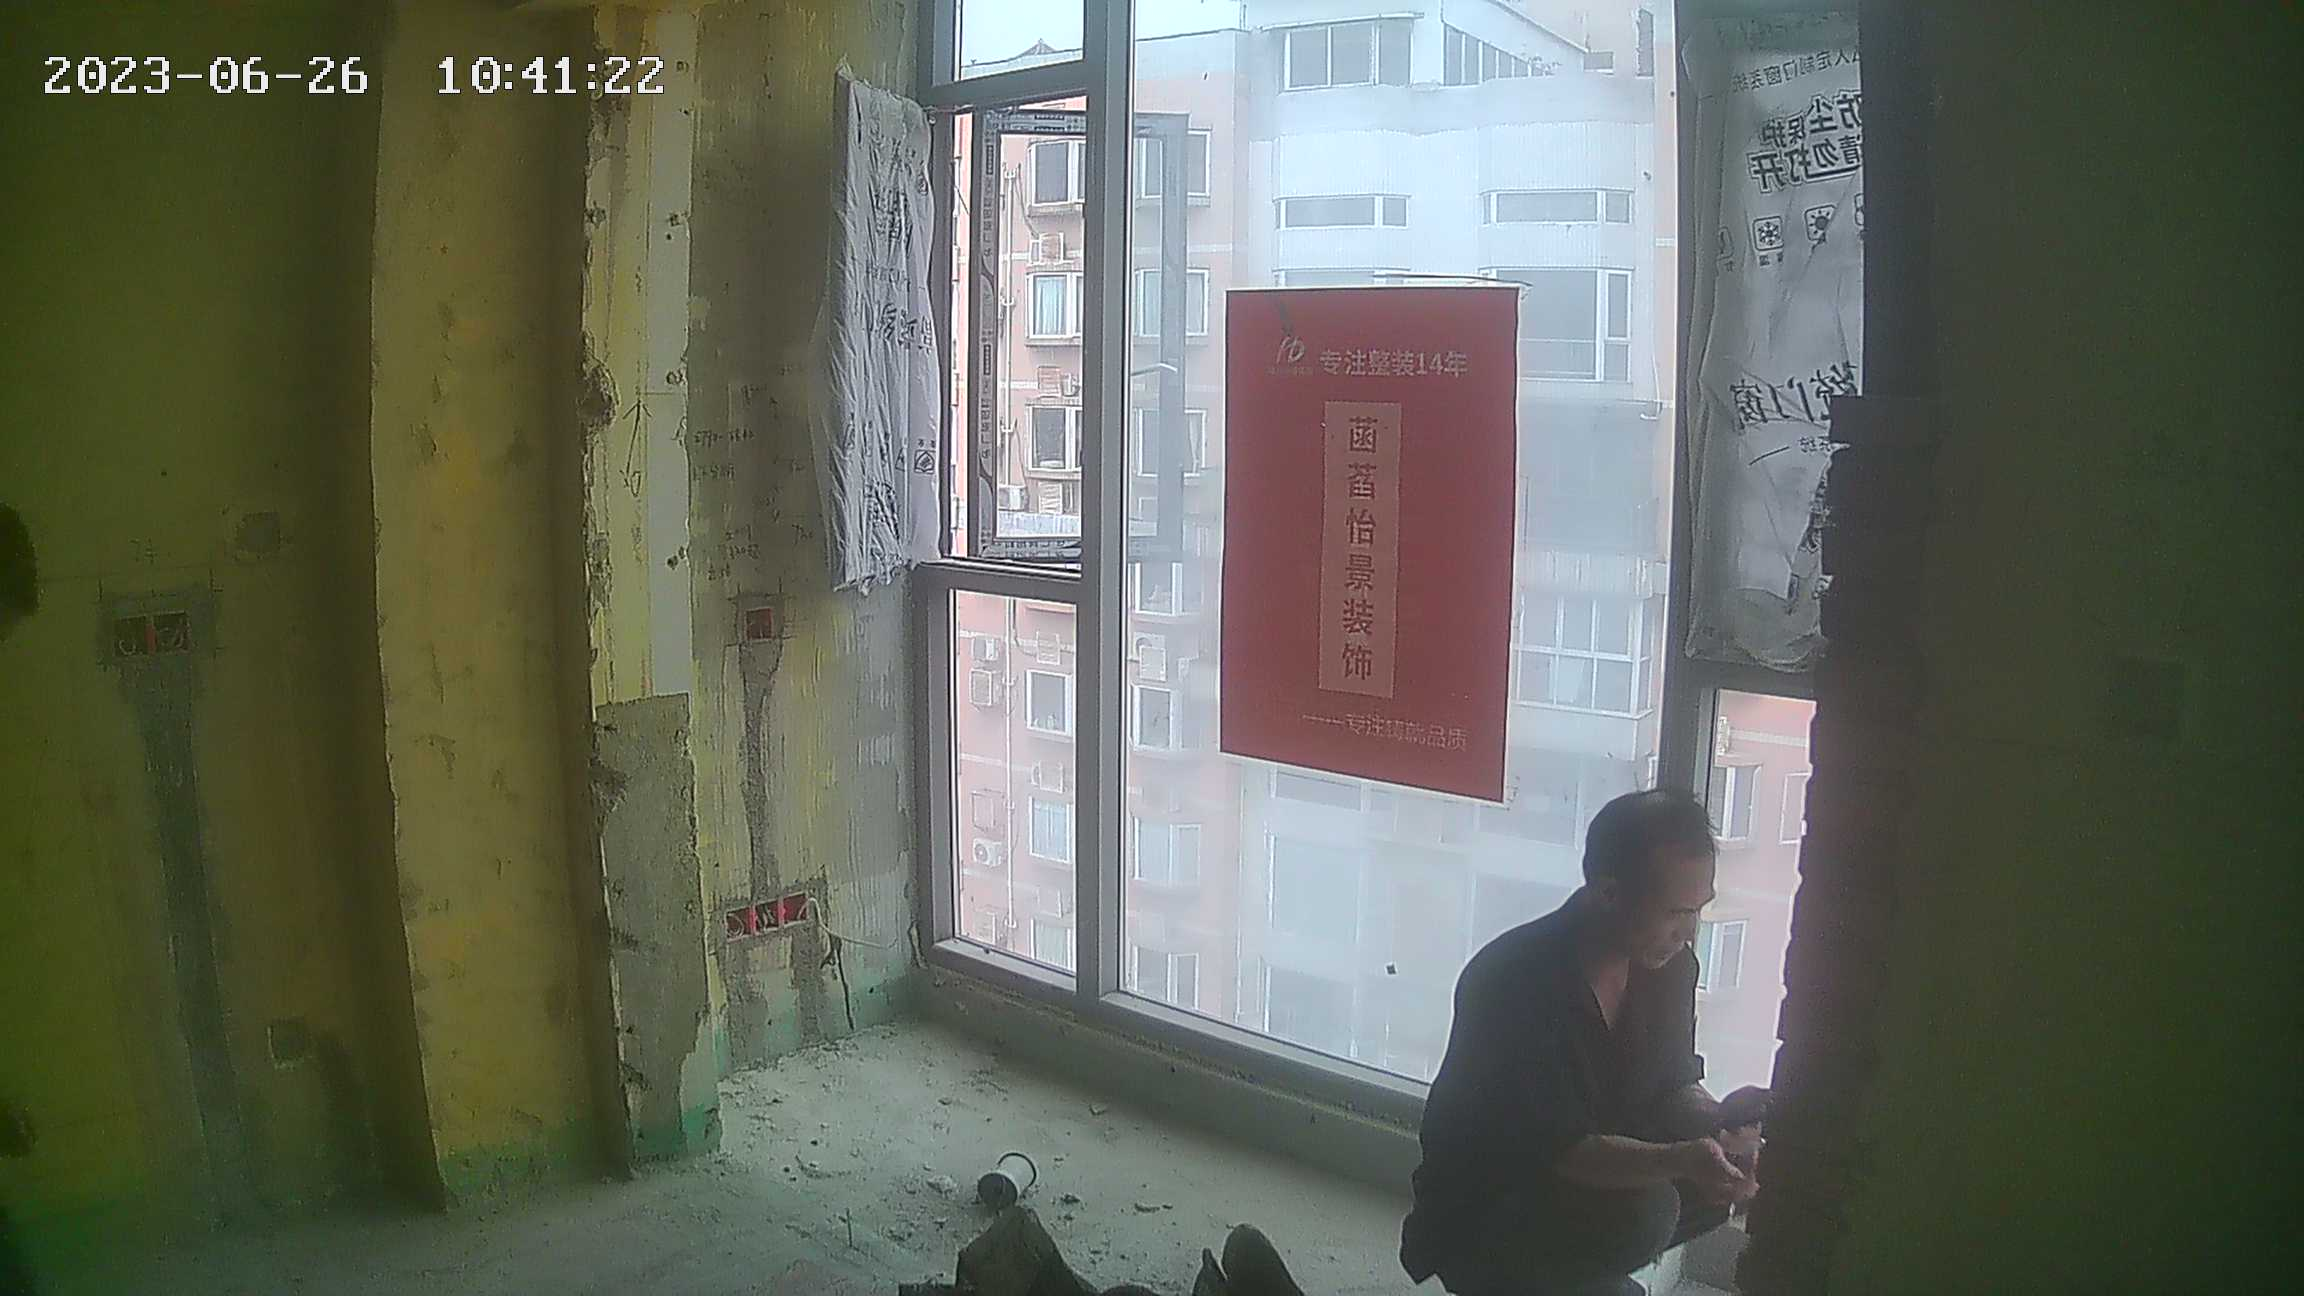people: (1396, 788, 1777, 1296)
window: (913, 5, 1873, 1207)
